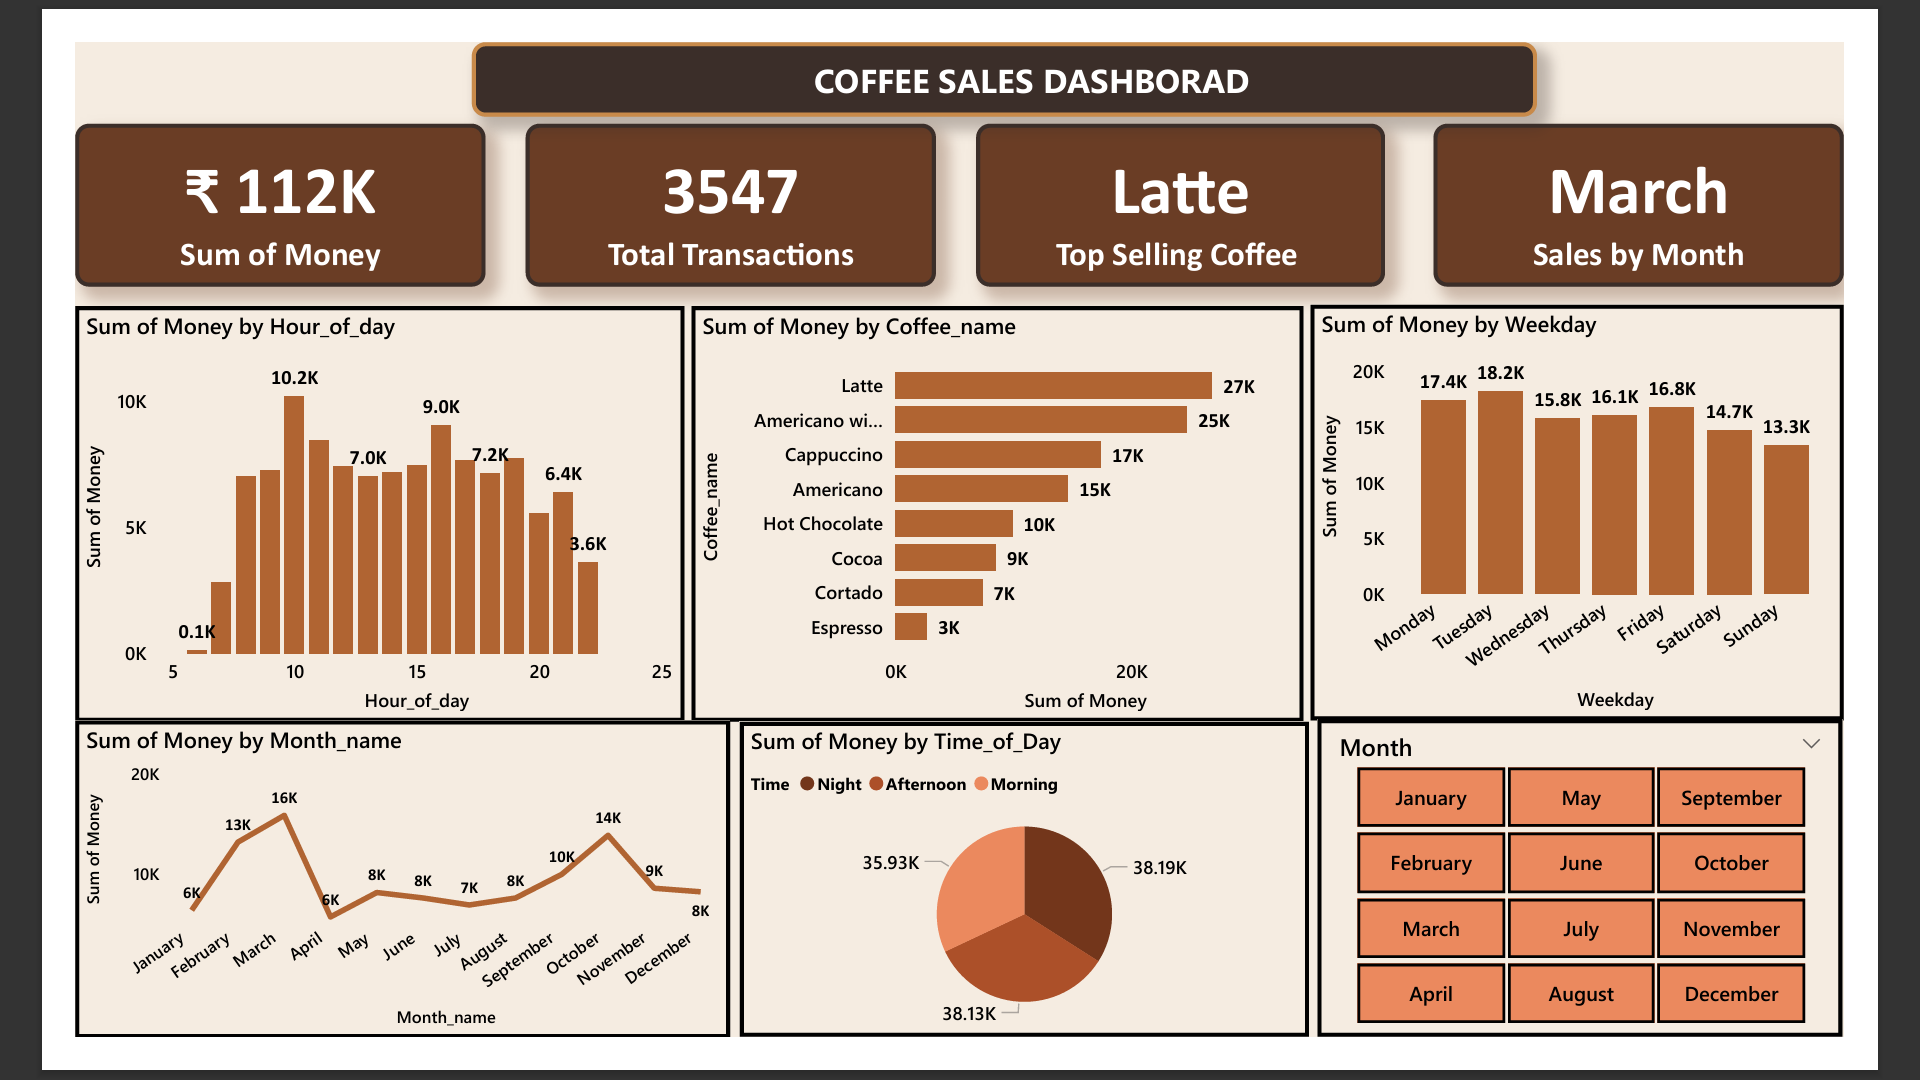

What the dashboard file says about the page in this screenshot:
{"tool":"powerbi","page":{"name":"COFFEE_SALES","canvas":[1280,720],"ordinal":0},"visuals":[{"type":"card","fields":{"Values":["Sum(Coffee_Sales.Money)"]},"box":[0,59.1,296.6,118.2],"z":0},{"type":"card","fields":{"Values":["Coffee_Sales.Total Transactions"]},"box":[326,59.2,296.9,118.3],"z":1000},{"type":"card","fields":{"Values":["Min(Coffee_Sales.Coffee_name)"]},"box":[651.9,59.2,295.8,118.3],"z":2000},{"type":"card","fields":{"Values":["Min(Coffee_Sales.Month_name)"]},"box":[983.4,59.1,296.6,118.2],"z":3000},{"type":"columnChart","fields":{"Category":["Coffee_Sales.Hour_of_day"],"Y":["Sum(Coffee_Sales.Money)"]},"box":[0,190.8,440.9,301],"z":4000},{"type":"barChart","fields":{"Y":["Sum(Coffee_Sales.Money)"],"Category":["Coffee_Sales.Coffee_name"]},"box":[445.6,190.8,443.3,301],"z":5000},{"type":"clusteredColumnChart","fields":{"Category":["Coffee_Sales.Weekday"],"Y":["Sum(Coffee_Sales.Money)"]},"box":[893.5,189.5,386.5,301.5],"z":6000},{"type":"lineChart","fields":{"Y":["Sum(Coffee_Sales.Money)"],"Category":["Coffee_Sales.Month_name"]},"box":[0,490.7,474.1,229.9],"z":7000},{"type":"pieChart","fields":{"Y":["Sum(Coffee_Sales.Money)"],"Category":["Coffee_Sales.Time_of_Day"]},"box":[481.1,492.3,411.9,227.7],"z":8000},{"type":"slicer","title":"Money","fields":{"Values":["Coffee_Sales.Month_name"]},"box":[898.6,490,380.7,230],"z":9000},{"type":"textbox","box":[286.8,0,771.6,54],"z":10000}]}

Visuals, with their boxes in screenshot pixels (x1, y1, x2, y2), scaled from the page's 1280x720 canvas onto the 1920x1080 screenshot:
card - Sum(Coffee_Sales.Money): bbox=(0, 89, 445, 266)
card - Coffee_Sales.Total Transactions: bbox=(489, 89, 934, 266)
card - Min(Coffee_Sales.Coffee_name): bbox=(978, 89, 1422, 266)
card - Min(Coffee_Sales.Month_name): bbox=(1475, 89, 1919, 266)
columnChart - Coffee_Sales.Hour_of_day x Sum(Coffee_Sales.Money): bbox=(0, 286, 661, 738)
barChart - Sum(Coffee_Sales.Money) x Coffee_Sales.Coffee_name: bbox=(668, 286, 1333, 738)
clusteredColumnChart - Coffee_Sales.Weekday x Sum(Coffee_Sales.Money): bbox=(1340, 284, 1919, 736)
lineChart - Sum(Coffee_Sales.Money) x Coffee_Sales.Month_name: bbox=(0, 736, 711, 1079)
pieChart - Sum(Coffee_Sales.Money) x Coffee_Sales.Time_of_Day: bbox=(722, 738, 1340, 1079)
"Money" slicer: bbox=(1348, 735, 1919, 1079)
textbox: bbox=(430, 0, 1588, 81)
